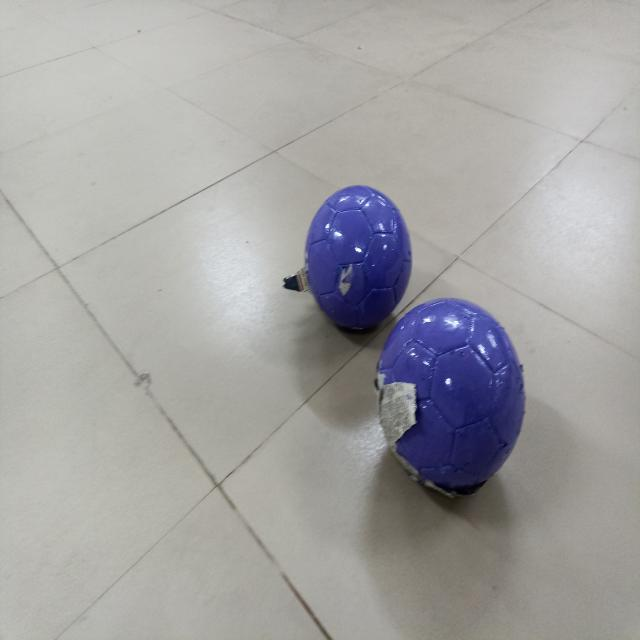purple_ball: (375, 300, 531, 501), (308, 186, 411, 330)
